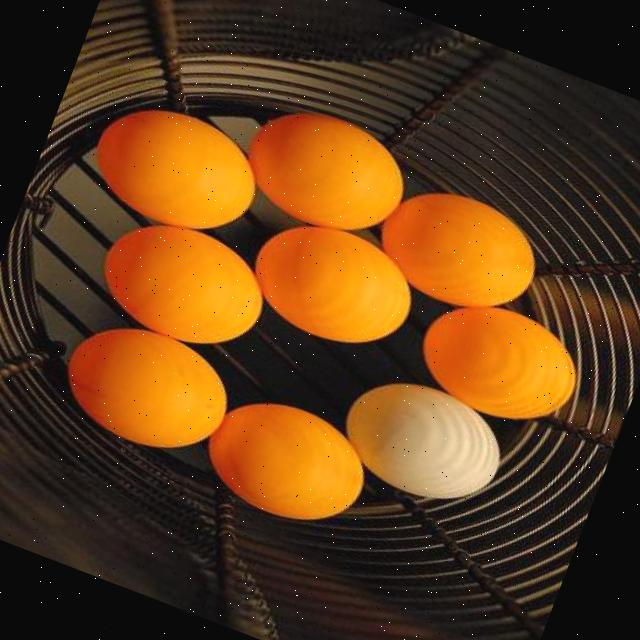ping-pong-ball: (78, 85, 274, 251), (82, 200, 280, 362), (235, 202, 431, 364), (49, 306, 244, 468), (406, 281, 598, 442), (232, 90, 420, 252), (328, 359, 517, 518), (191, 382, 380, 541), (364, 170, 551, 328)
